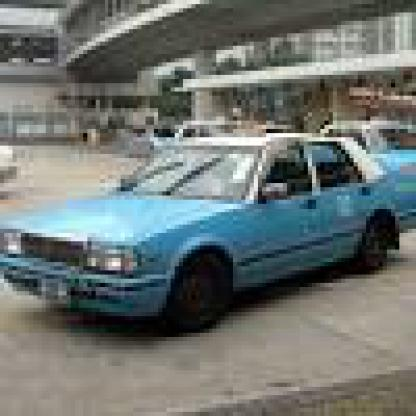taxi: (1, 122, 413, 342)
